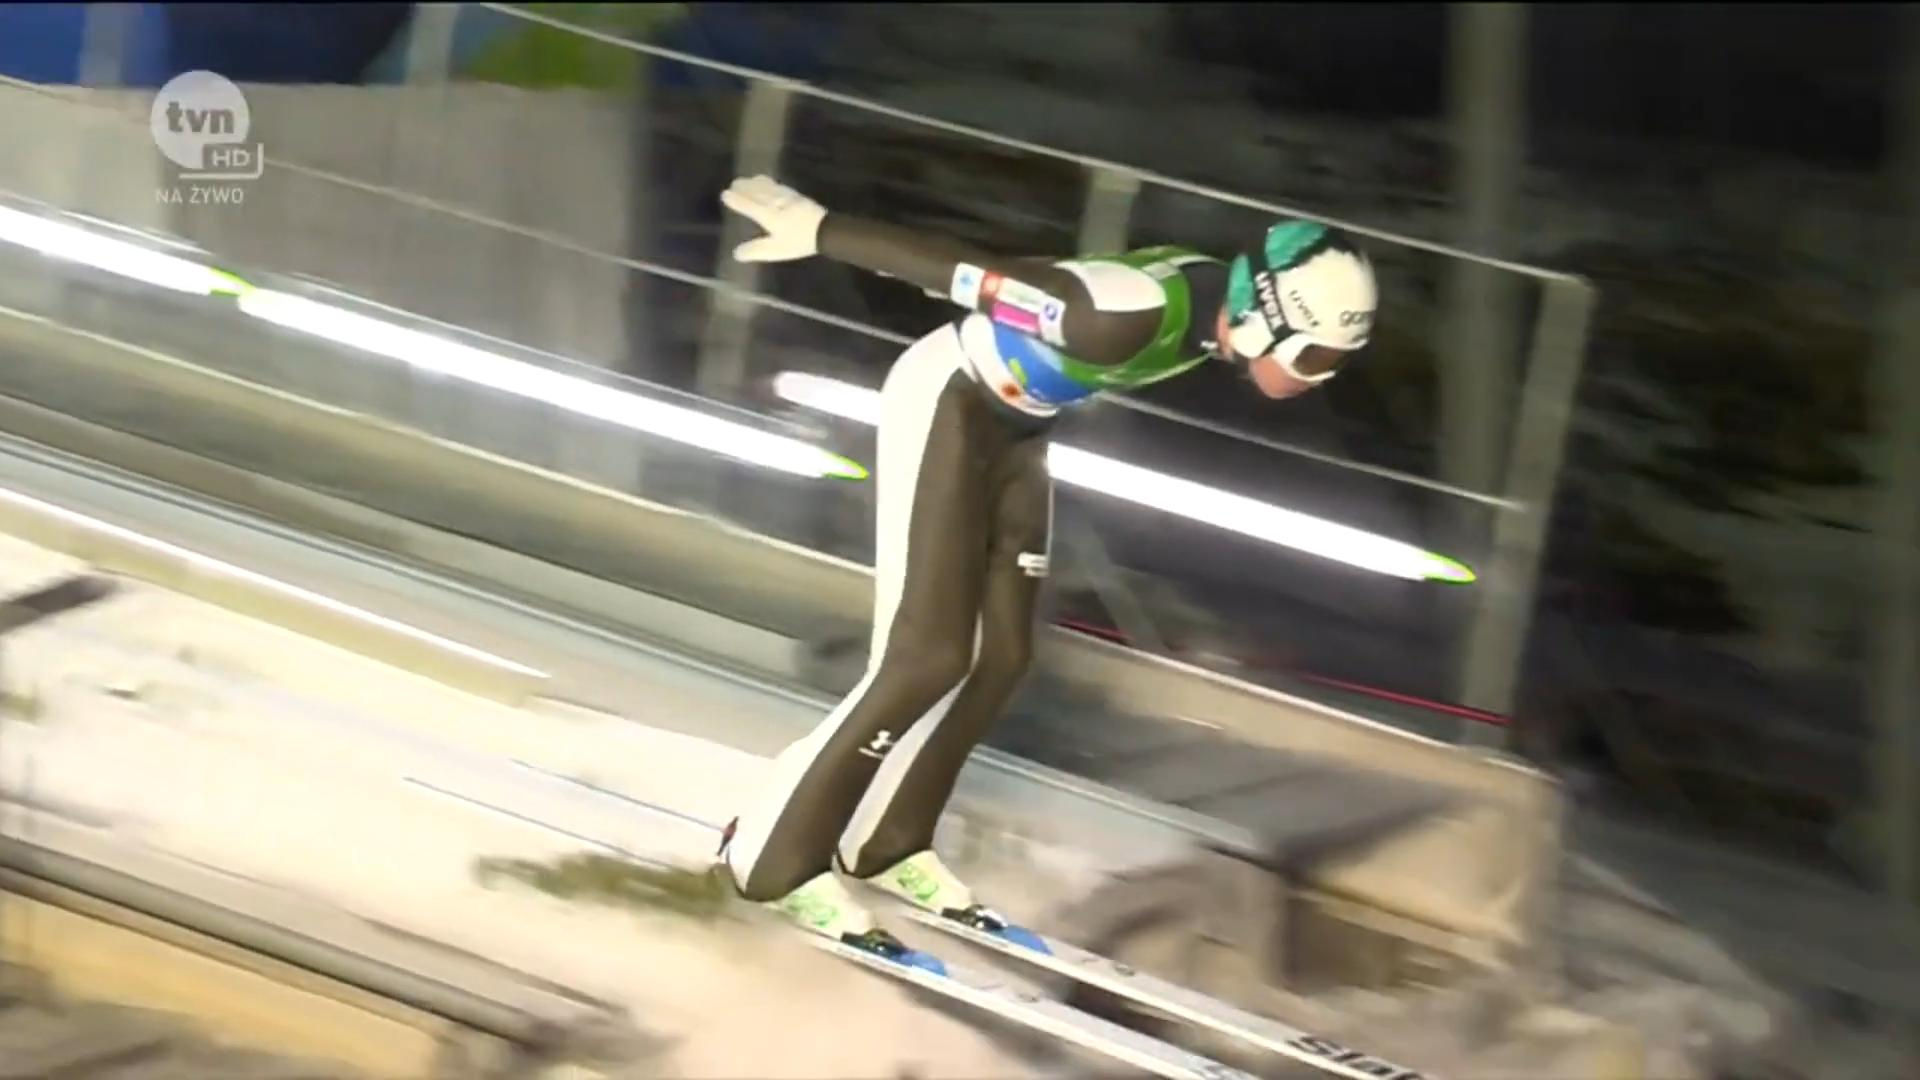prog: (1145, 794, 1453, 907)
